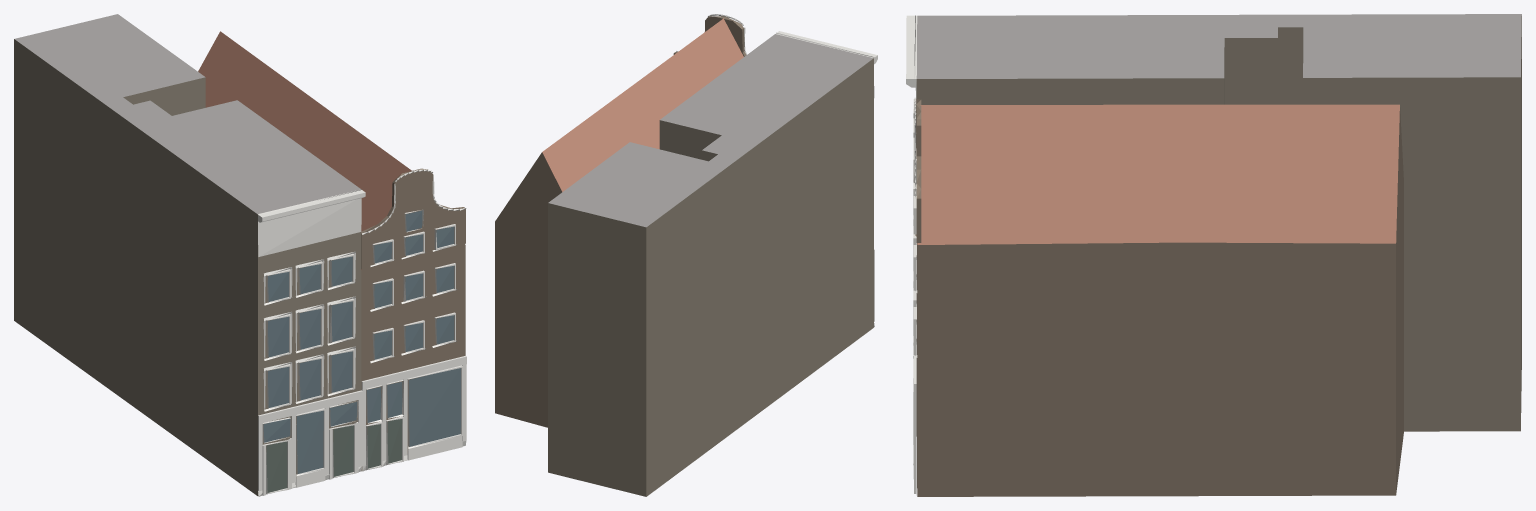
The model's file is chunk-face-rapenburg-89-103-r1.lod2.glb.
The picture shows the model from 3 angles, left to right: view 1: azimuth 30°, elevation 25°; view 2: azimuth 150°, elevation 25°; view 3: azimuth 270°, elevation 25°; orthographic projection. The views are drawn at different scales.
Parts seen in each view (by area): view 1: lod2; view 2: lod2; view 3: lod2.
Part boxes in pixels (box(x1,y1,x2,y2)): lod2: box(14, 14, 466, 496); lod2: box(495, 14, 877, 496); lod2: box(906, 14, 1521, 496).
Size of the model in its own units: 11.43 by 14.94 by 23.05.
